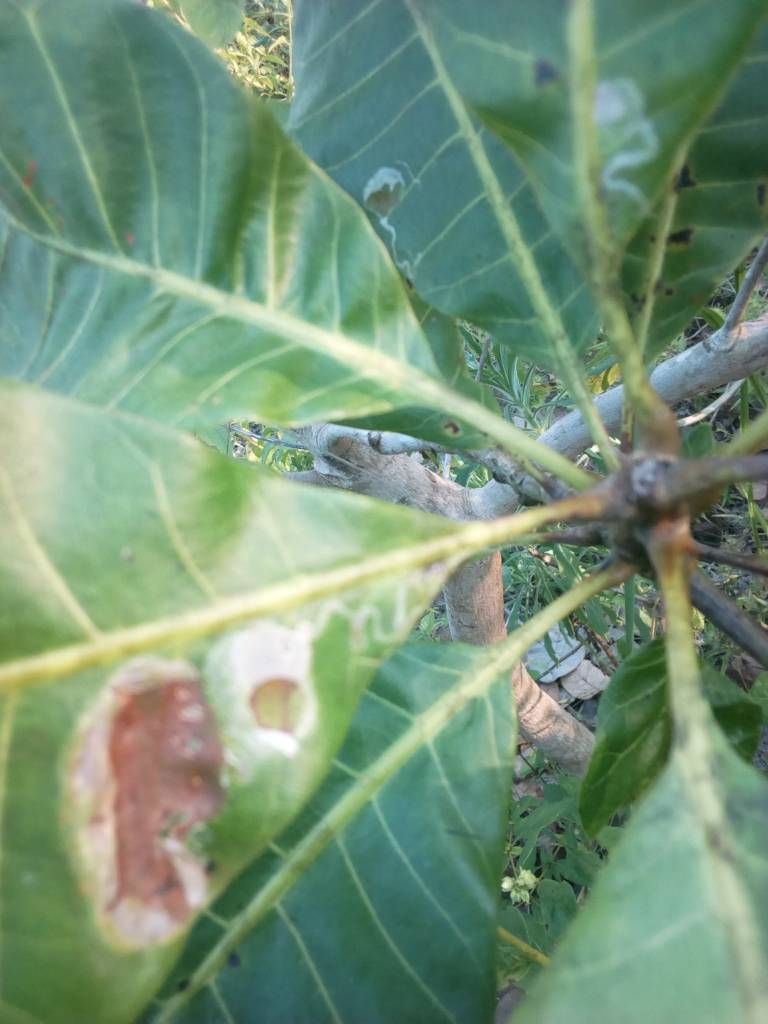Dysdercus wolkerii: (2, 386, 490, 1019)
